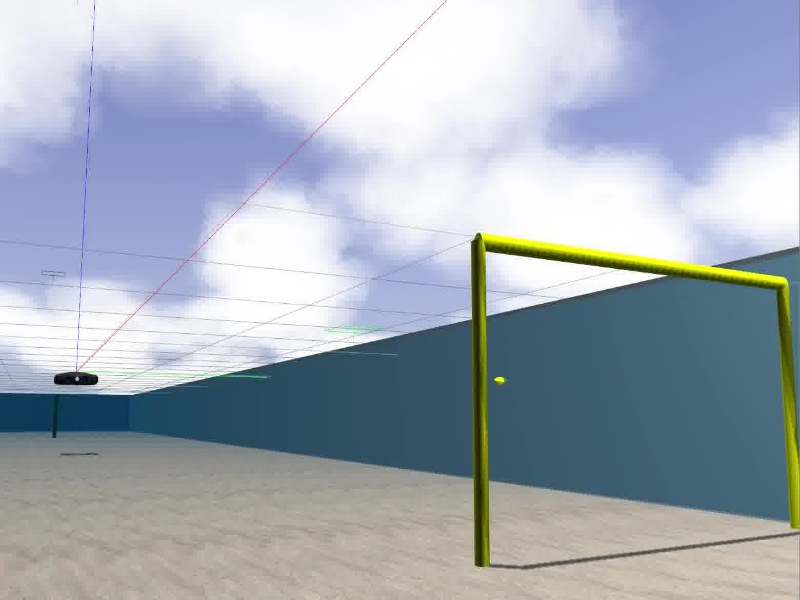gate: (470, 231, 800, 568)
